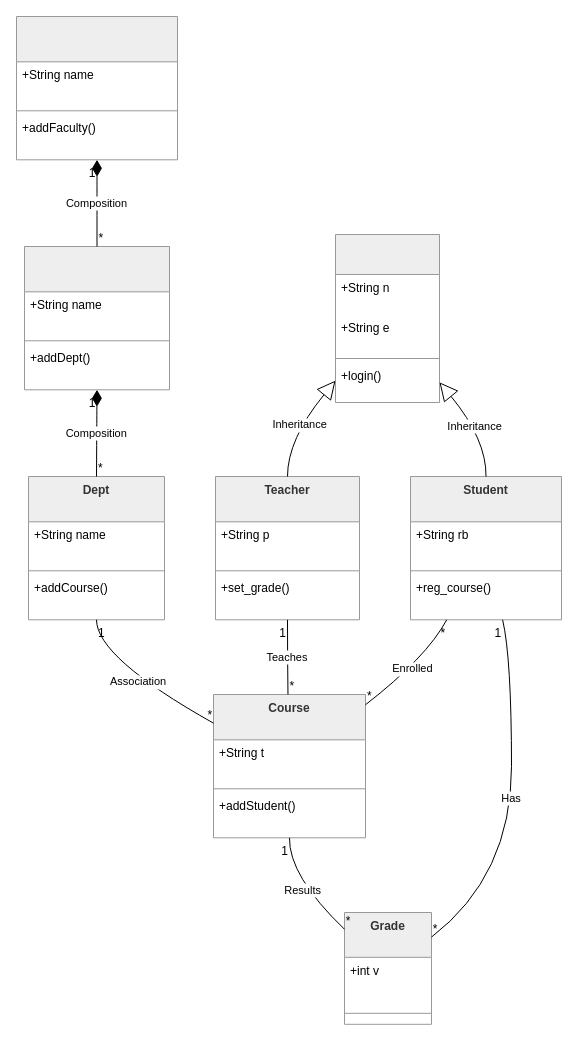
This 578x1041 diagram has some shape labels left out. The shapes that lost their labels are listed below. From the top down, each one's box as (x1, y1, x2, y2) in pixels, then its label:
(16, 16, 178, 160): University
(24, 246, 170, 390): Faculty
(334, 234, 440, 402): User
